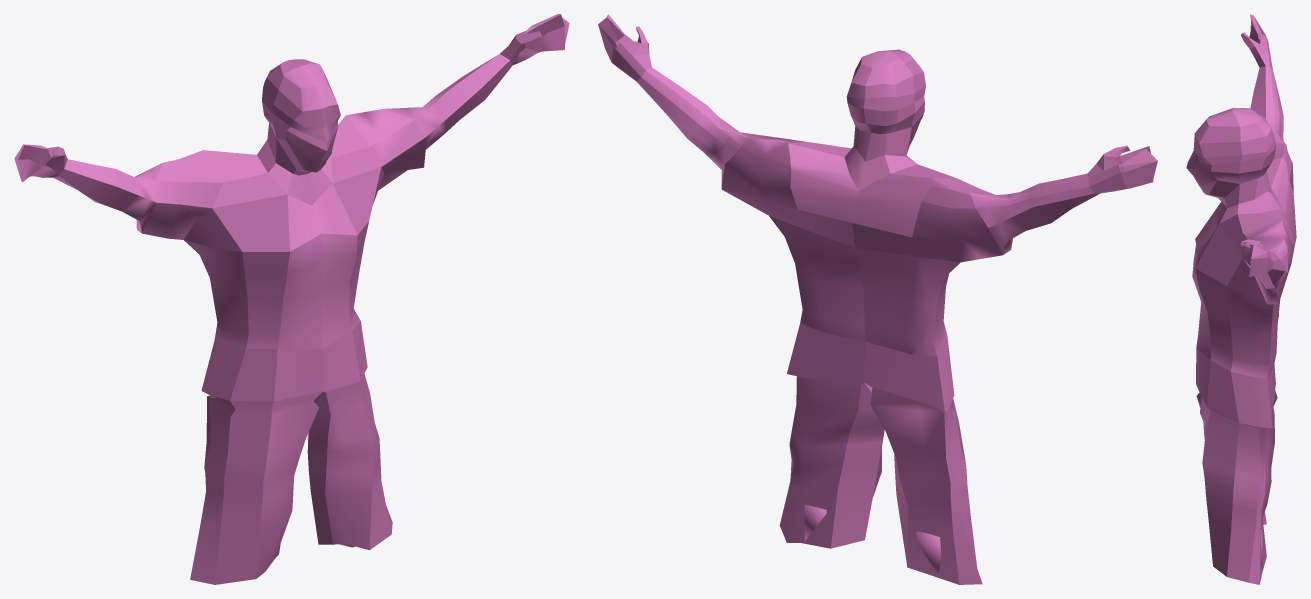
The model's file is SM_Corpse.fbx.
3 renders of one model, left to right at view 1: azimuth 30°, elevation 25°; view 2: azimuth 150°, elevation 25°; view 3: azimuth 270°, elevation 25°, orthographic. The views are drawn at different scales.
Visible parts, largest first — view 1: SM_Corpse; view 2: SM_Corpse; view 3: SM_Corpse.
Part boxes in pixels (x1,y1,x2,y2): SM_Corpse: (14, 14, 569, 584); SM_Corpse: (598, 14, 1157, 584); SM_Corpse: (1186, 14, 1296, 584).
Size of the model in its own units: 12.79 by 10.94 by 2.5.
